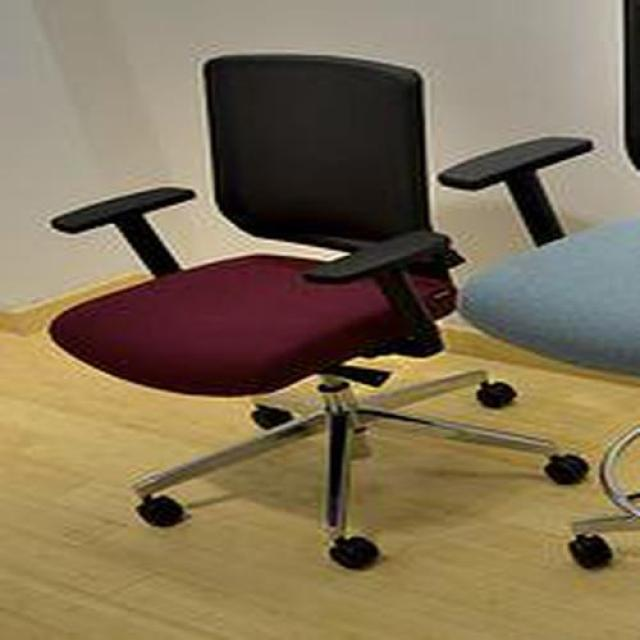swivelchair: (47, 55, 591, 572)
